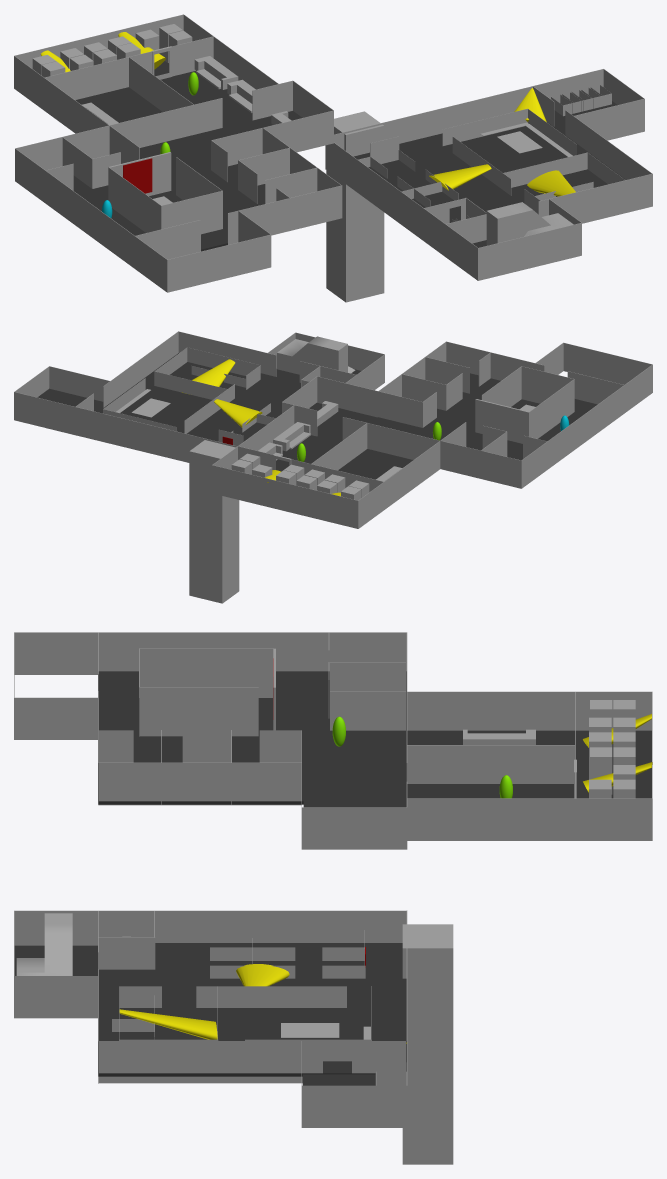
The model's file is Mapeado.fbx.
The picture shows the model from 3 angles, top to bottom: view 1: azimuth 30°, elevation 25°; view 2: azimuth 150°, elevation 25°; view 3: azimuth 270°, elevation 25°; orthographic projection. The views are drawn at different scales.
Parts seen in each view (by area): view 1: Pisos1_pCube11; view 2: Pisos1_pCube11; view 3: Pisos1_pCube11.
Boxes of the visible parts, bbox=[...] form: Pisos1_pCube11: bbox=[14, 14, 652, 302]; Pisos1_pCube11: bbox=[14, 331, 652, 603]; Pisos1_pCube11: bbox=[14, 632, 652, 1164].
Bounding box in the file's own units: 62.55 × 24.5 × 45.56.
